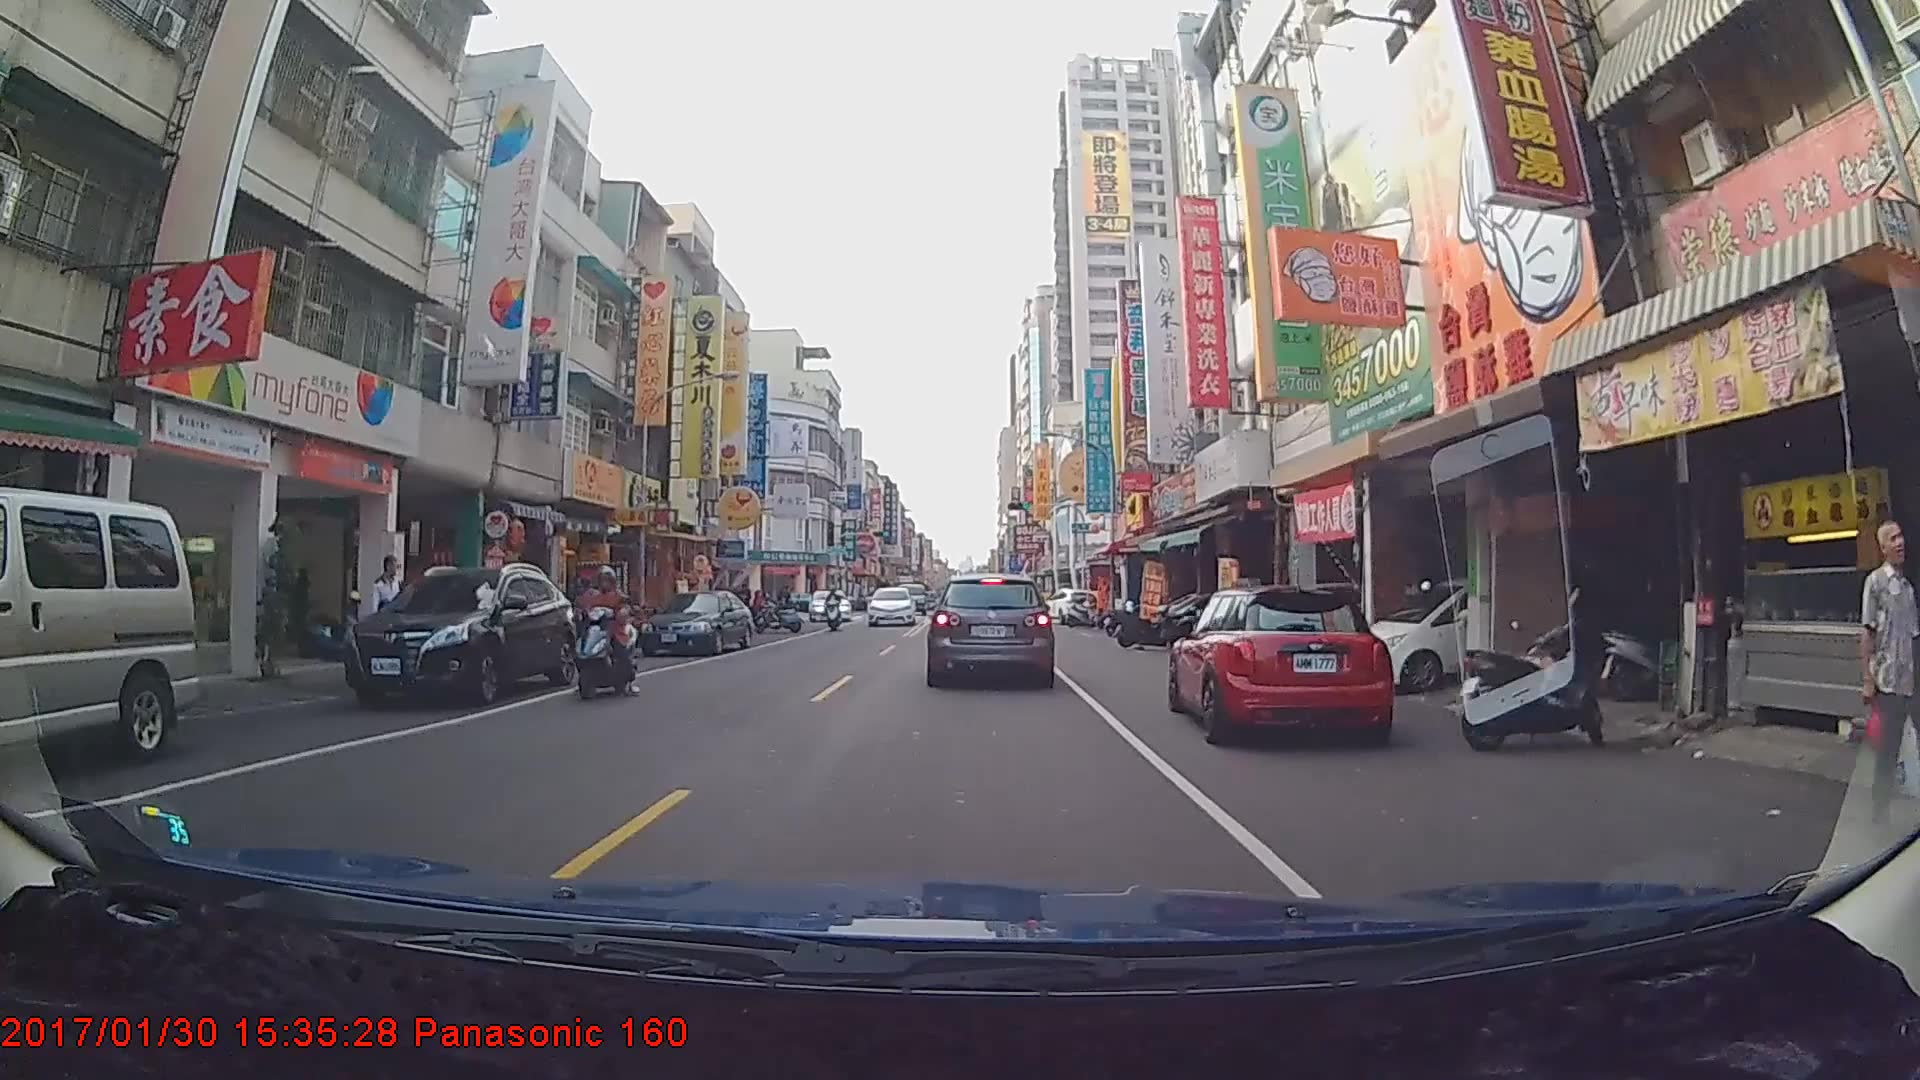pedestrian: (1862, 520, 1920, 832)
rider: (571, 563, 641, 701), (822, 580, 849, 630)
vehicle: (0, 486, 203, 769), (1165, 582, 1392, 746), (342, 562, 577, 708), (926, 570, 1054, 685), (633, 586, 751, 653), (864, 583, 915, 624), (1037, 581, 1093, 619), (808, 587, 849, 617)
